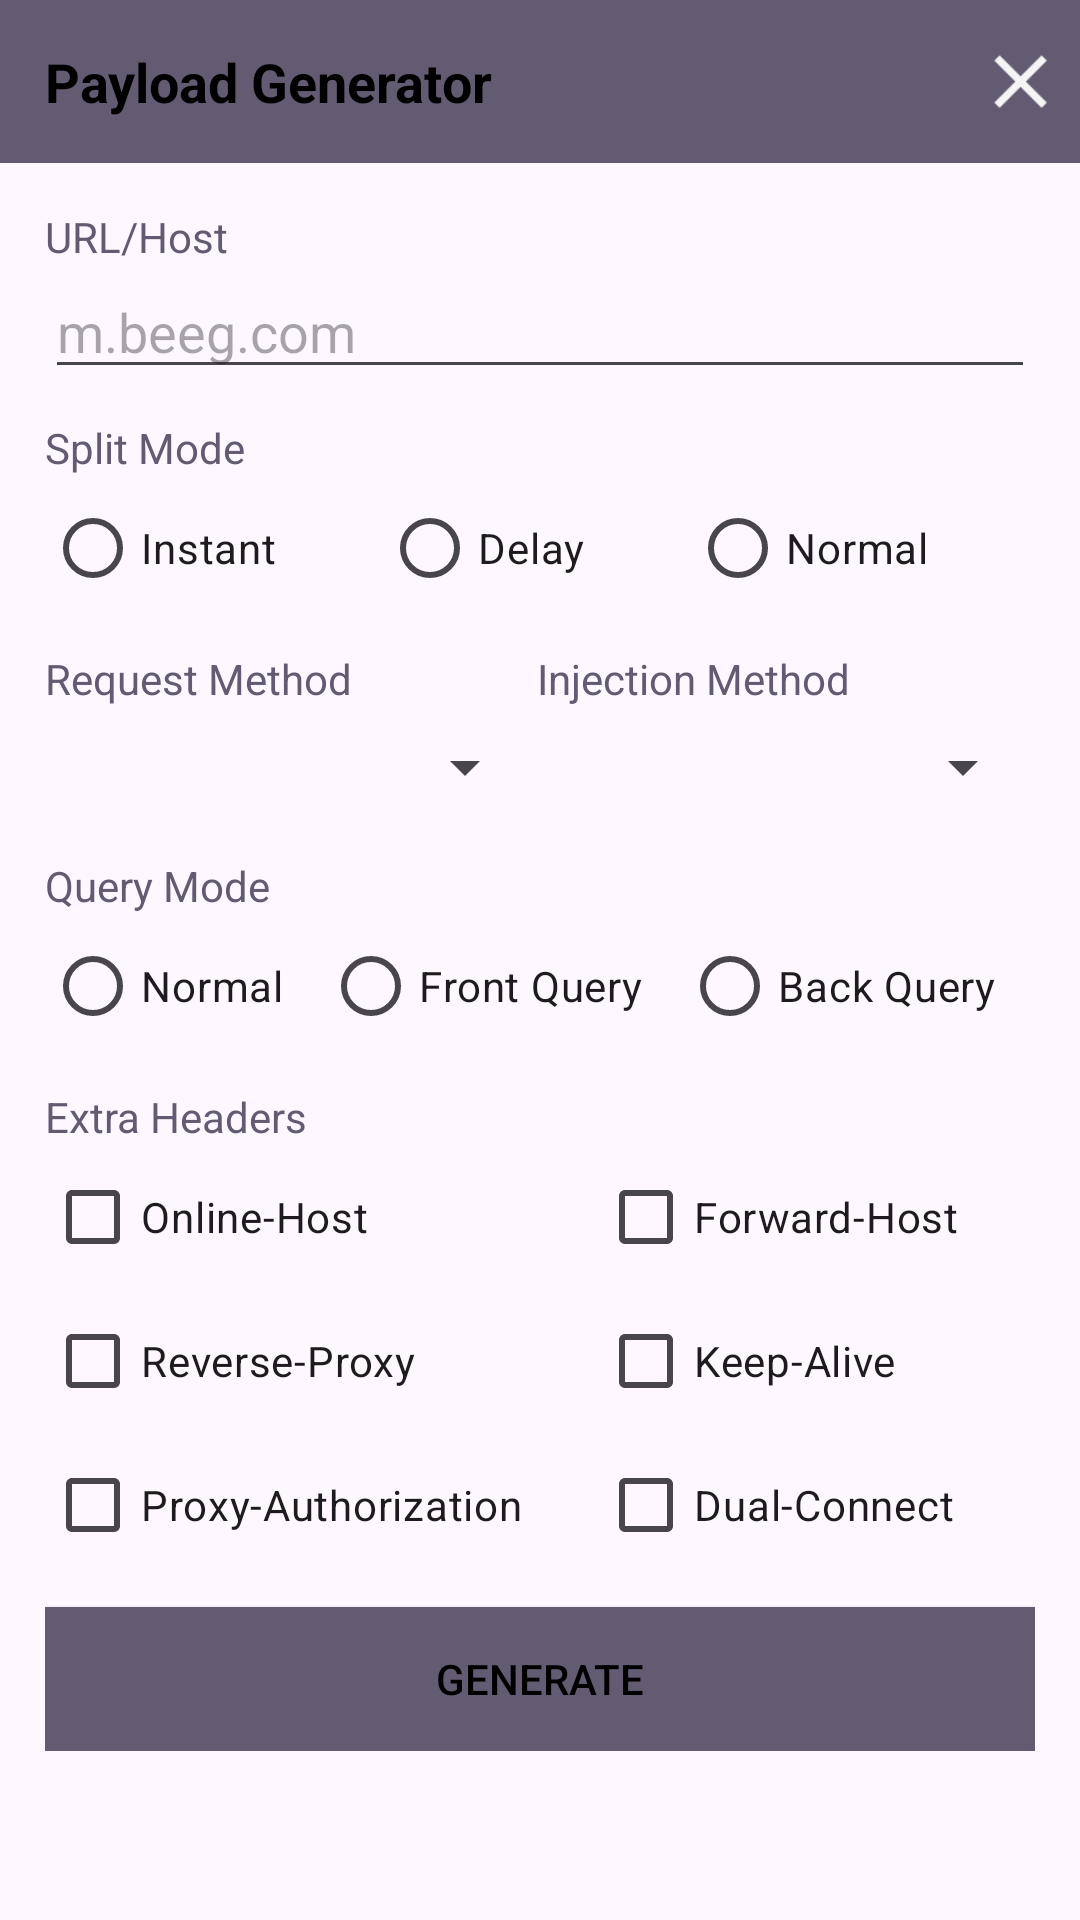

Named icons in this screenshot (1080*1920) and their centers, (x,y):
close dialog: (1020,81)
